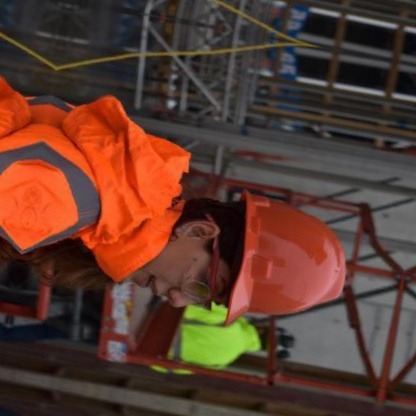red: (212, 182, 366, 352)
